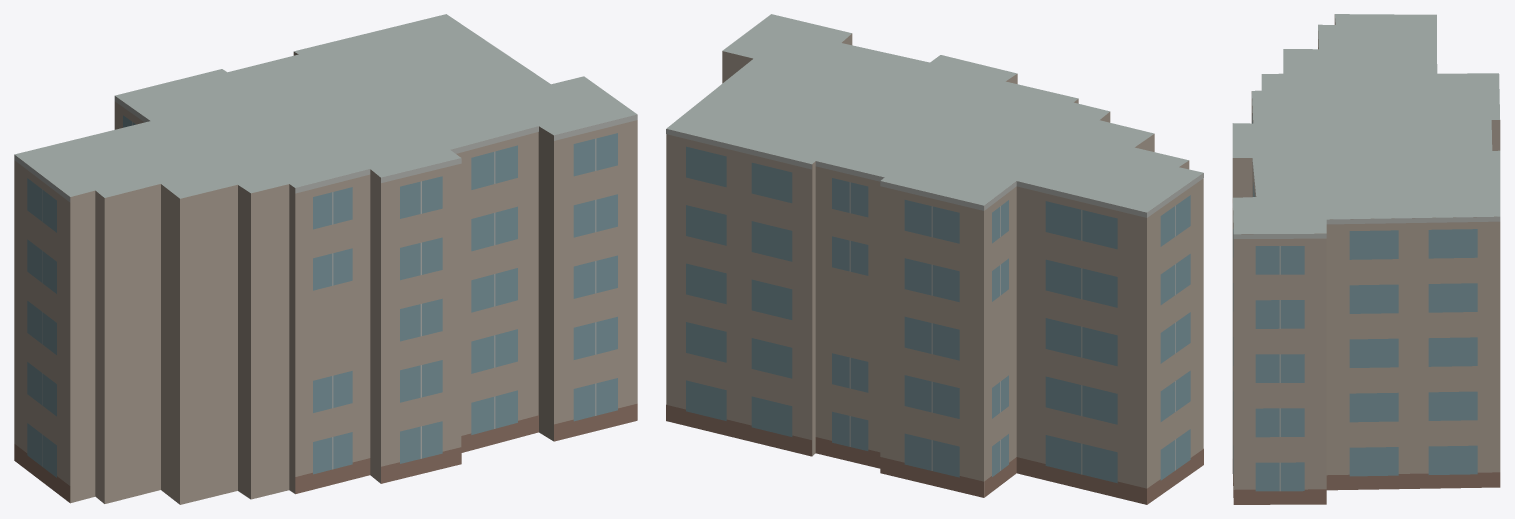
The model's file is survey-upis-32995743.glb.
The picture shows the model from 3 angles, left to right: view 1: azimuth 30°, elevation 25°; view 2: azimuth 150°, elevation 25°; view 3: azimuth 270°, elevation 25°; orthographic projection. The views are drawn at different scales.
Visible parts, largest first — view 1: survey-upis-32995743.tmp; view 2: survey-upis-32995743.tmp; view 3: survey-upis-32995743.tmp.
Boxes of the visible parts, box(x1,y1,x2,y2) form: survey-upis-32995743.tmp: box(14, 14, 637, 504); survey-upis-32995743.tmp: box(666, 14, 1203, 504); survey-upis-32995743.tmp: box(1232, 14, 1500, 504).
Bounding box in the file's own units: 23.38 × 13.4 × 12.02.
